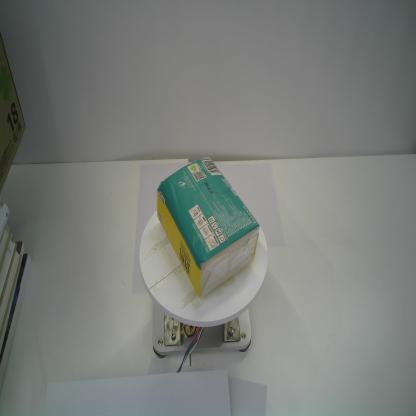Tissue: (155, 154, 260, 300)
